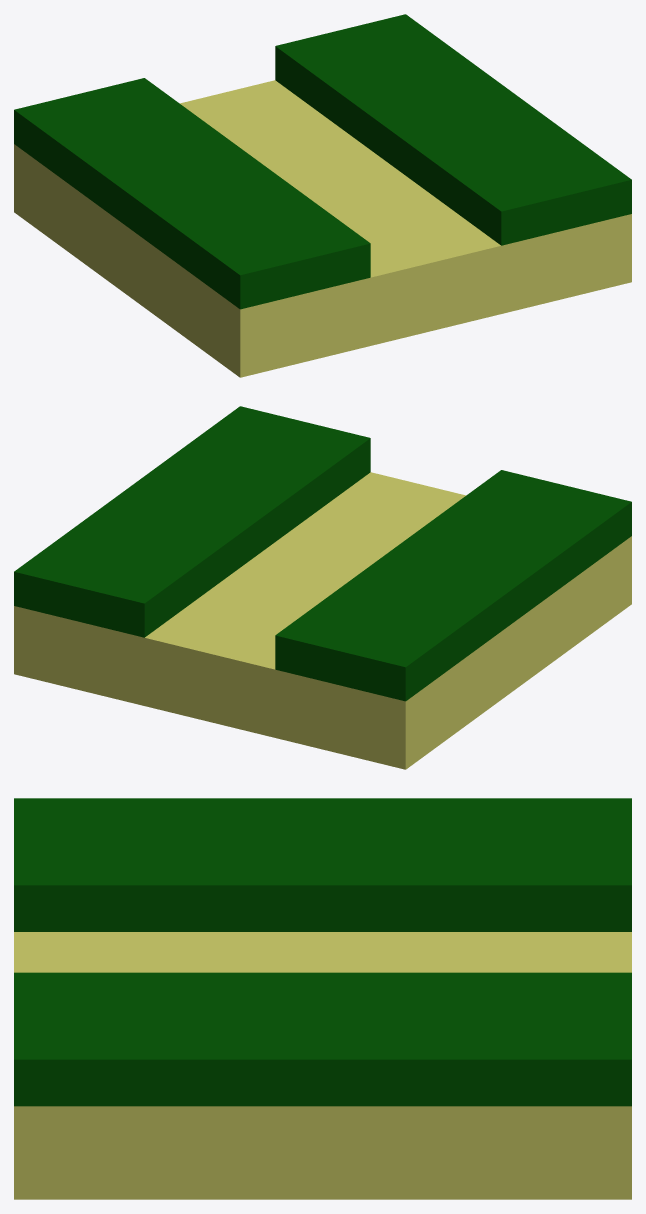
File: Straight.fbx
The picture shows the model from 3 angles, top to bottom: view 1: azimuth 30°, elevation 25°; view 2: azimuth 150°, elevation 25°; view 3: azimuth 270°, elevation 25°; orthographic projection. The views are drawn at different scales.
Visible parts, largest first — view 1: Cube; view 2: Cube; view 3: Cube.
Boxes of the visible parts, x1,y1,x2,y2 form: Cube: [14, 14, 631, 377]; Cube: [14, 406, 631, 769]; Cube: [14, 798, 631, 1199].
Size of the model in its own units: 1200 by 300 by 1200.
